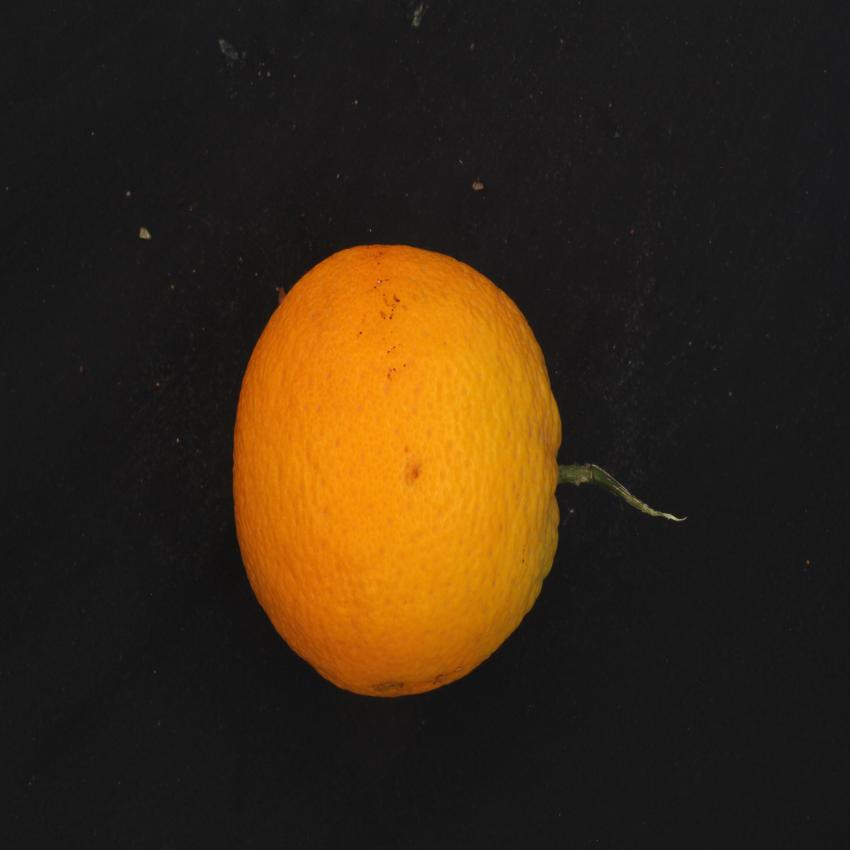Buen estado: (225, 226, 572, 711)
